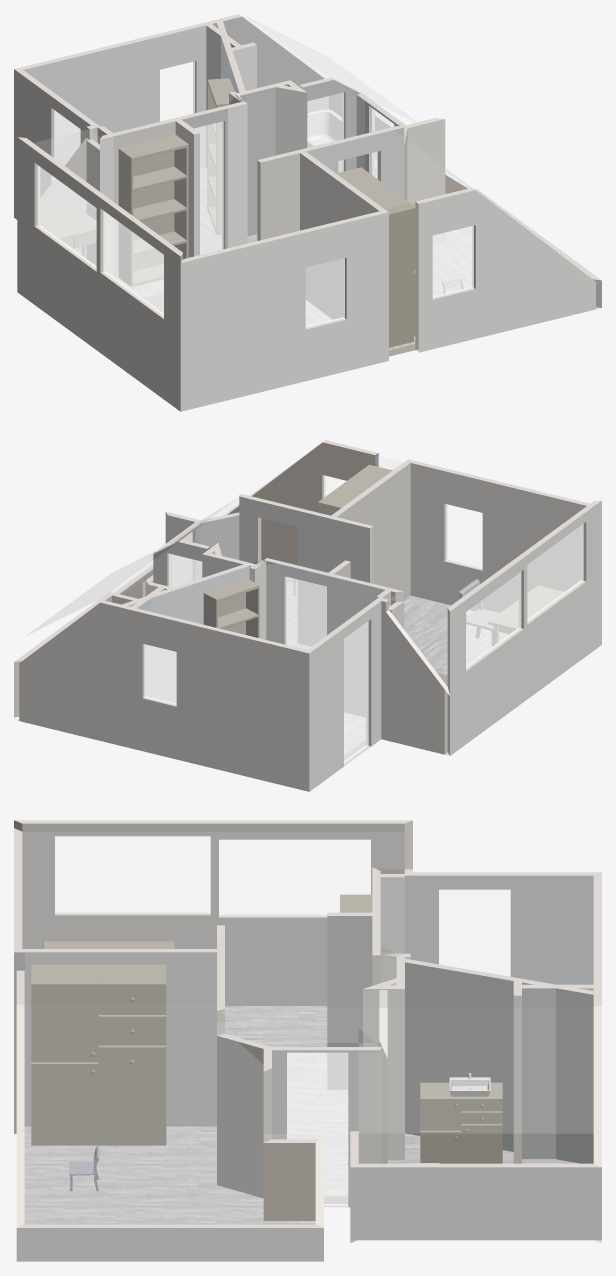
3 renders of one model, top to bottom at view 1: azimuth 30°, elevation 25°; view 2: azimuth 150°, elevation 25°; view 3: azimuth 270°, elevation 25°, orthographic. The views are drawn at different scales.
Visible parts, largest first — view 1: ceiling_Other_3, wall_98, wall_149, wall_137, ceiling_Bedroom_0, wall_31, storage0, storage3, wall_173, ceiling_Other_5, window_4, window_9 (+50 smaller); view 2: ceiling_Other_3, wall_165, wall_15, wall_149, wall_102, ceiling_Bedroom_0, wall_114, wall_169, wall_177, wall_24, wall_173, ceiling_Other_5 (+44 smaller); view 3: ceiling_Other_4, ceiling_Other_3, wall_27, storage3, ceiling_Bedroom_0, ceiling_Bathroom_5, wall_53, floor_Other_10, wall_20, wall_19, wall_33, window_4 (+46 smaller).
Part boxes in pixels (x1=…): ceiling_Other_3: x1=34, y1=87, x2=378, y2=258; wall_98: x1=180, y1=212, x2=388, y2=411; wall_149: x1=17, y1=137, x2=180, y2=411; wall_137: x1=418, y1=190, x2=595, y2=352; ceiling_Bedroom_0: x1=24, y1=25, x2=240, y2=134; wall_31: x1=23, y1=25, x2=206, y2=168; storage0: x1=118, y1=134, x2=188, y2=286; storage3: x1=336, y1=167, x2=415, y2=347; wall_173: x1=300, y1=153, x2=379, y2=319; ceiling_Other_5: x1=336, y1=129, x2=470, y2=200; window_4: x1=103, y1=211, x2=163, y2=315; window_9: x1=103, y1=211, x2=163, y2=315; ceiling_Other_3: x1=209, y1=463, x2=585, y2=612; wall_165: x1=131, y1=610, x2=309, y2=791; wall_15: x1=410, y1=463, x2=586, y2=612; wall_149: x1=450, y1=500, x2=601, y2=755; wall_102: x1=19, y1=602, x2=130, y2=748; ceiling_Bedroom_0: x1=135, y1=564, x2=388, y2=649; wall_114: x1=309, y1=601, x2=381, y2=791; wall_169: x1=386, y1=612, x2=444, y2=754; wall_177: x1=239, y1=496, x2=330, y2=646; wall_24: x1=228, y1=442, x2=375, y2=565; wall_173: x1=337, y1=463, x2=410, y2=599; ceiling_Other_5: x1=249, y1=443, x2=374, y2=509; ceiling_Other_4: x1=25, y1=1005, x2=314, y2=1223; ceiling_Other_3: x1=23, y1=832, x2=403, y2=989; wall_27: x1=22, y1=823, x2=404, y2=1005; storage3: x1=31, y1=964, x2=166, y2=1145; ceiling_Bedroom_0: x1=377, y1=876, x2=592, y2=985; ceiling_Bathroom_5: x1=359, y1=1050, x2=592, y2=1132; wall_53: x1=350, y1=1167, x2=601, y2=1240; floor_Other_10: x1=24, y1=1126, x2=315, y2=1224; wall_20: x1=405, y1=962, x2=513, y2=1151; wall_19: x1=404, y1=875, x2=593, y2=984; wall_33: x1=14, y1=952, x2=216, y2=1133; window_4: x1=55, y1=836, x2=210, y2=913.
Size of the model in its own units: 7.21 by 2.53 by 7.12.
104 materials, 9 textured.
